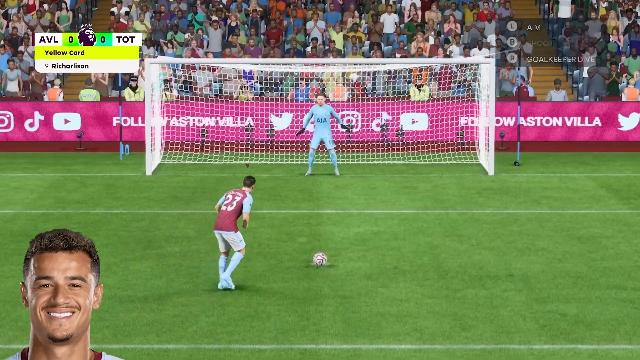football: (314, 253, 326, 265)
goal-bottom-left: (156, 128, 270, 180)
goal-bottom-right: (371, 129, 484, 179)
goal-middle-down: (272, 129, 368, 179)
goal-middle-up: (272, 68, 366, 126)
goal-top-left: (153, 68, 270, 126)
goal-top-right: (369, 68, 487, 124)
goalkeeper: (298, 96, 338, 182)
player: (204, 177, 264, 291)
